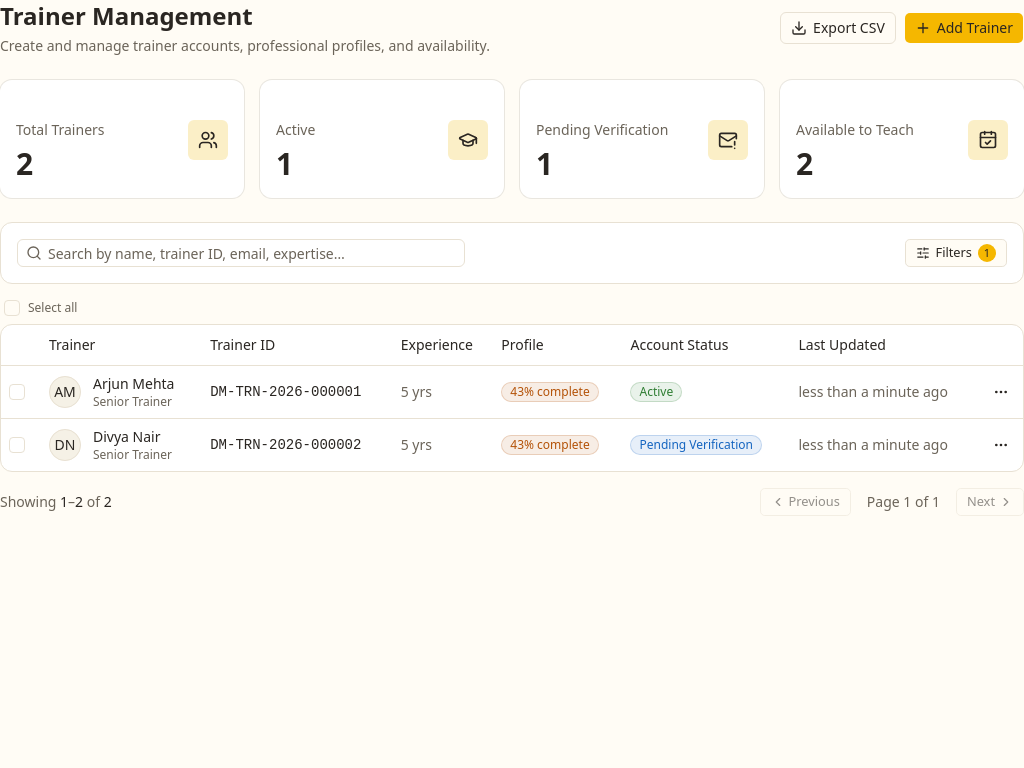
Test: TrainersPage › deactivates a trainer via the row action menu after confirmation
The image size is (1024, 768).
Expected: the text "Arjun Mehta" is shown, [93, 374, 174, 394]
Click the button named "actions for arjun mehta" at point(1001, 392), box [987, 378, 1015, 406]
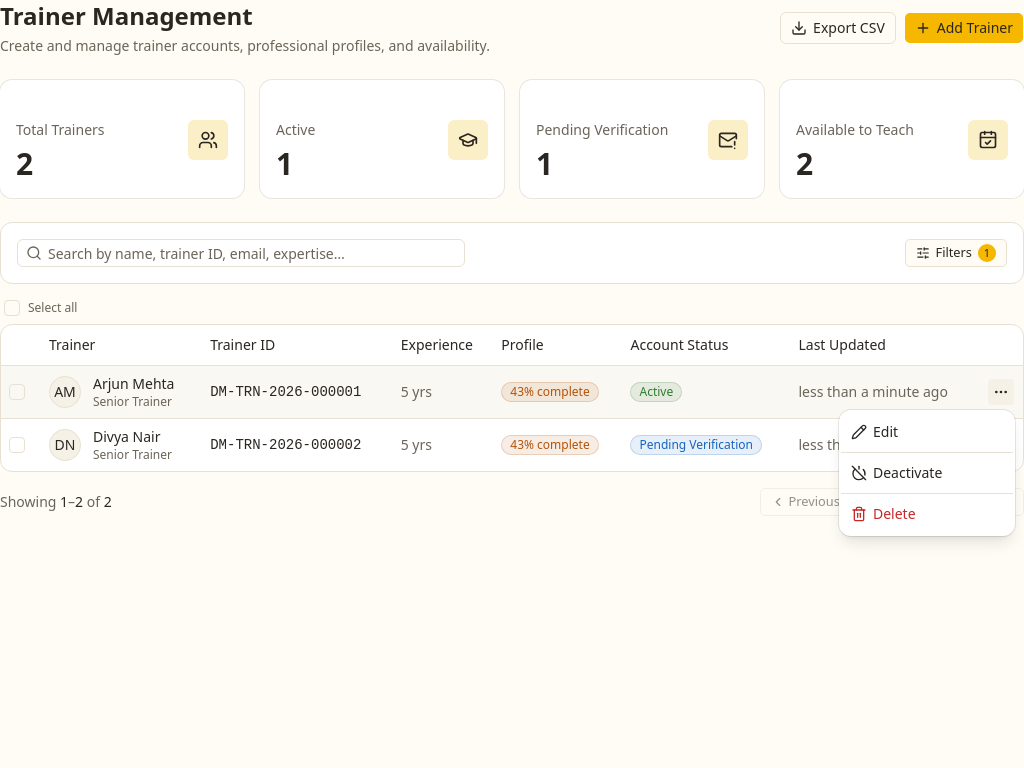
Click the menu item "Deactivate" at point(897, 472), box [851, 463, 942, 482]
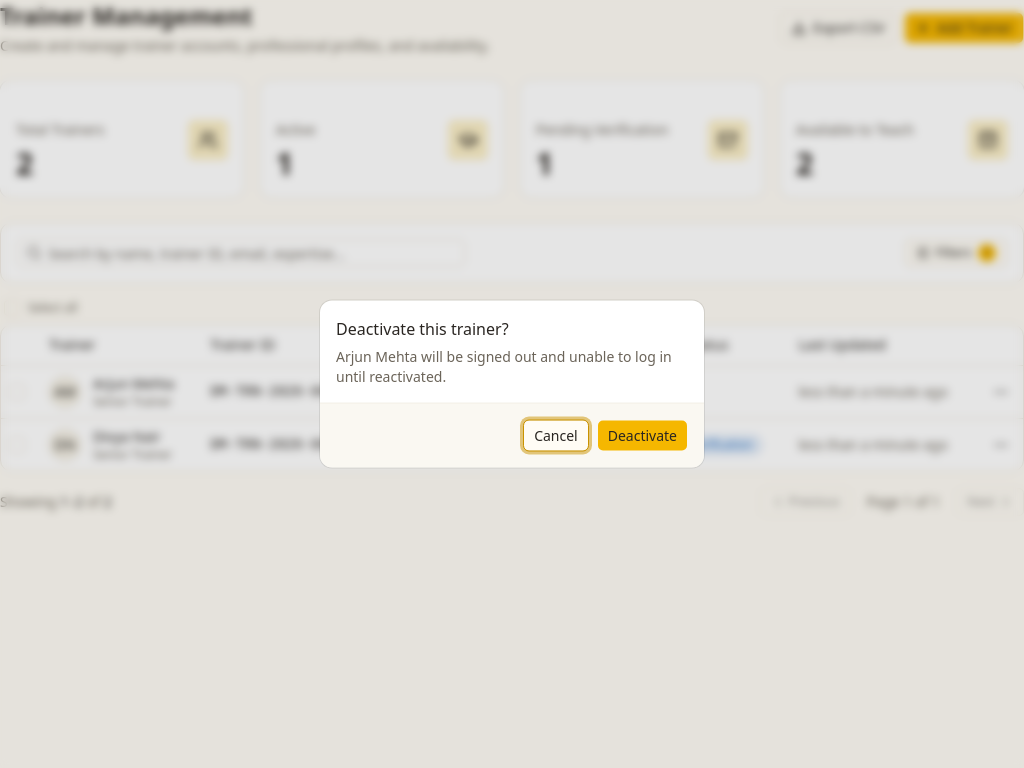
Click the button "Deactivate" at point(642, 436), box [597, 420, 688, 452]
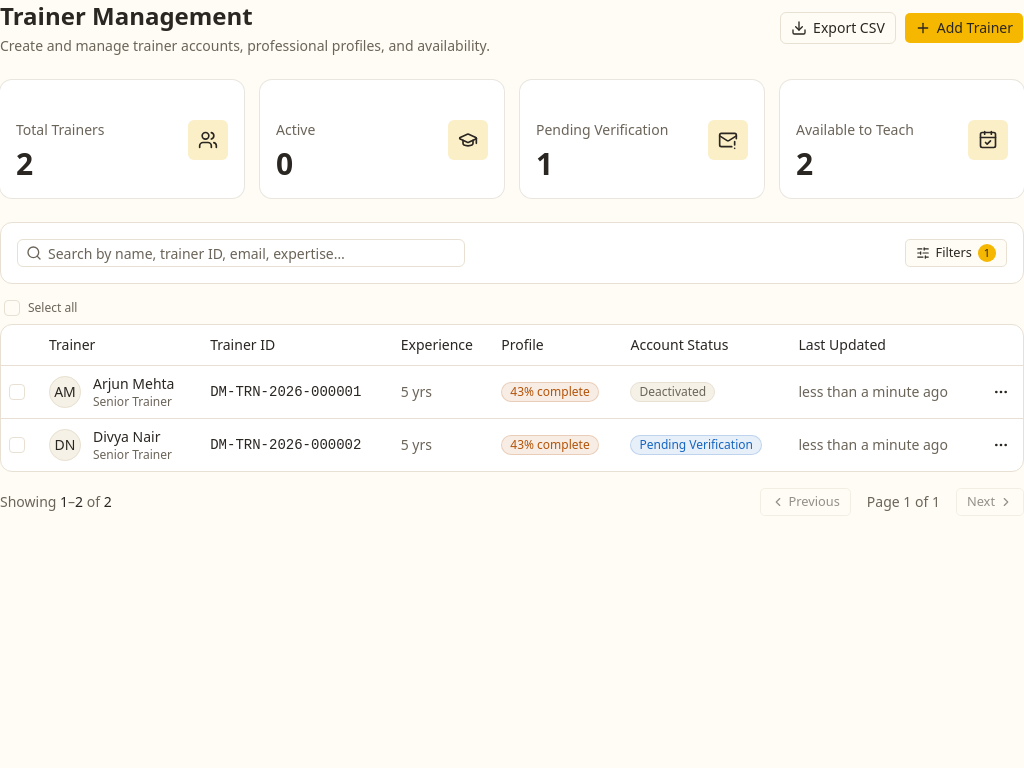
Now the text "Deactivated" is shown, box [630, 382, 715, 402]
